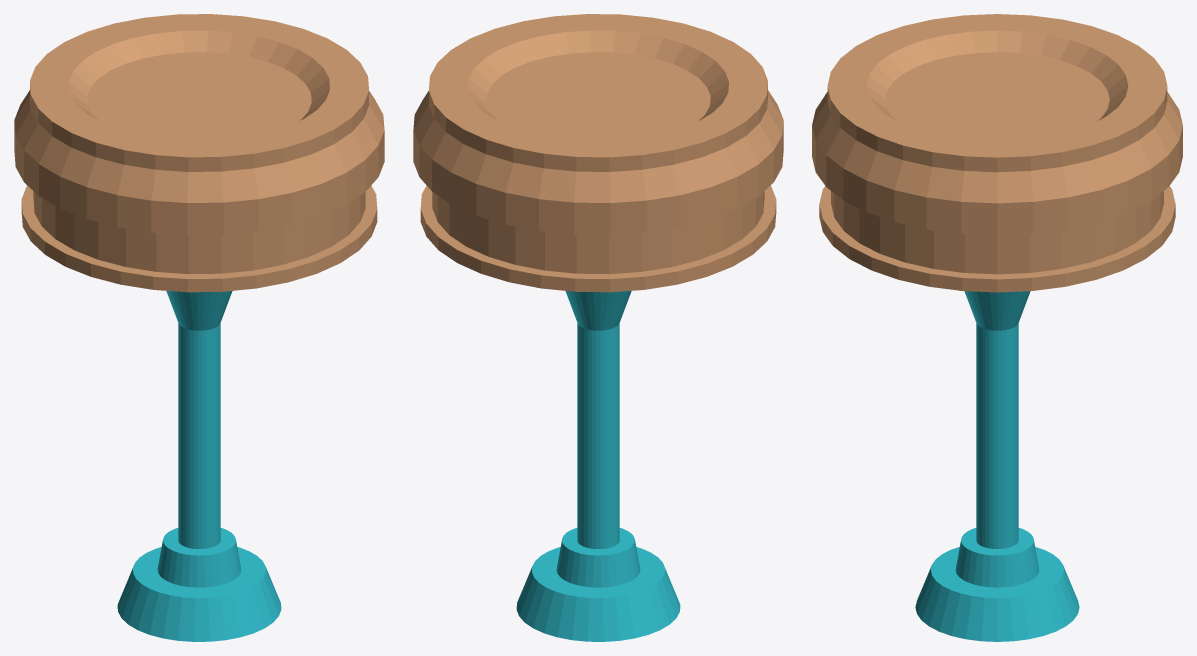
3 views of the same model, side by side, from view 1: azimuth 30°, elevation 25°; view 2: azimuth 150°, elevation 25°; view 3: azimuth 270°, elevation 25° (orthographic).
Parts seen in each view (by area): view 1: Cylinder; view 2: Cylinder; view 3: Cylinder.
Boxes of the visible parts, x1=… form: Cylinder: x1=14, y1=14, x2=384, y2=641; Cylinder: x1=413, y1=14, x2=783, y2=641; Cylinder: x1=812, y1=14, x2=1182, y2=641.
Size of the model in its own units: 14.4 by 14.4 by 22.34.
